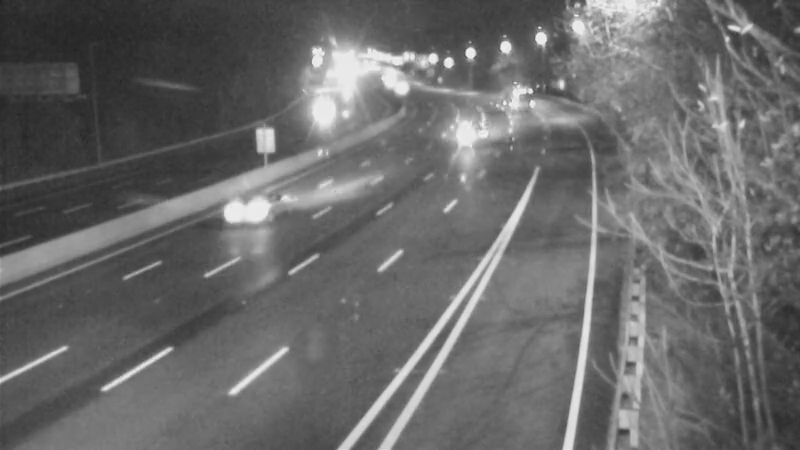vehicle: (219, 166, 299, 246), (377, 60, 427, 110), (490, 76, 540, 126), (451, 109, 501, 159), (292, 85, 342, 135)
